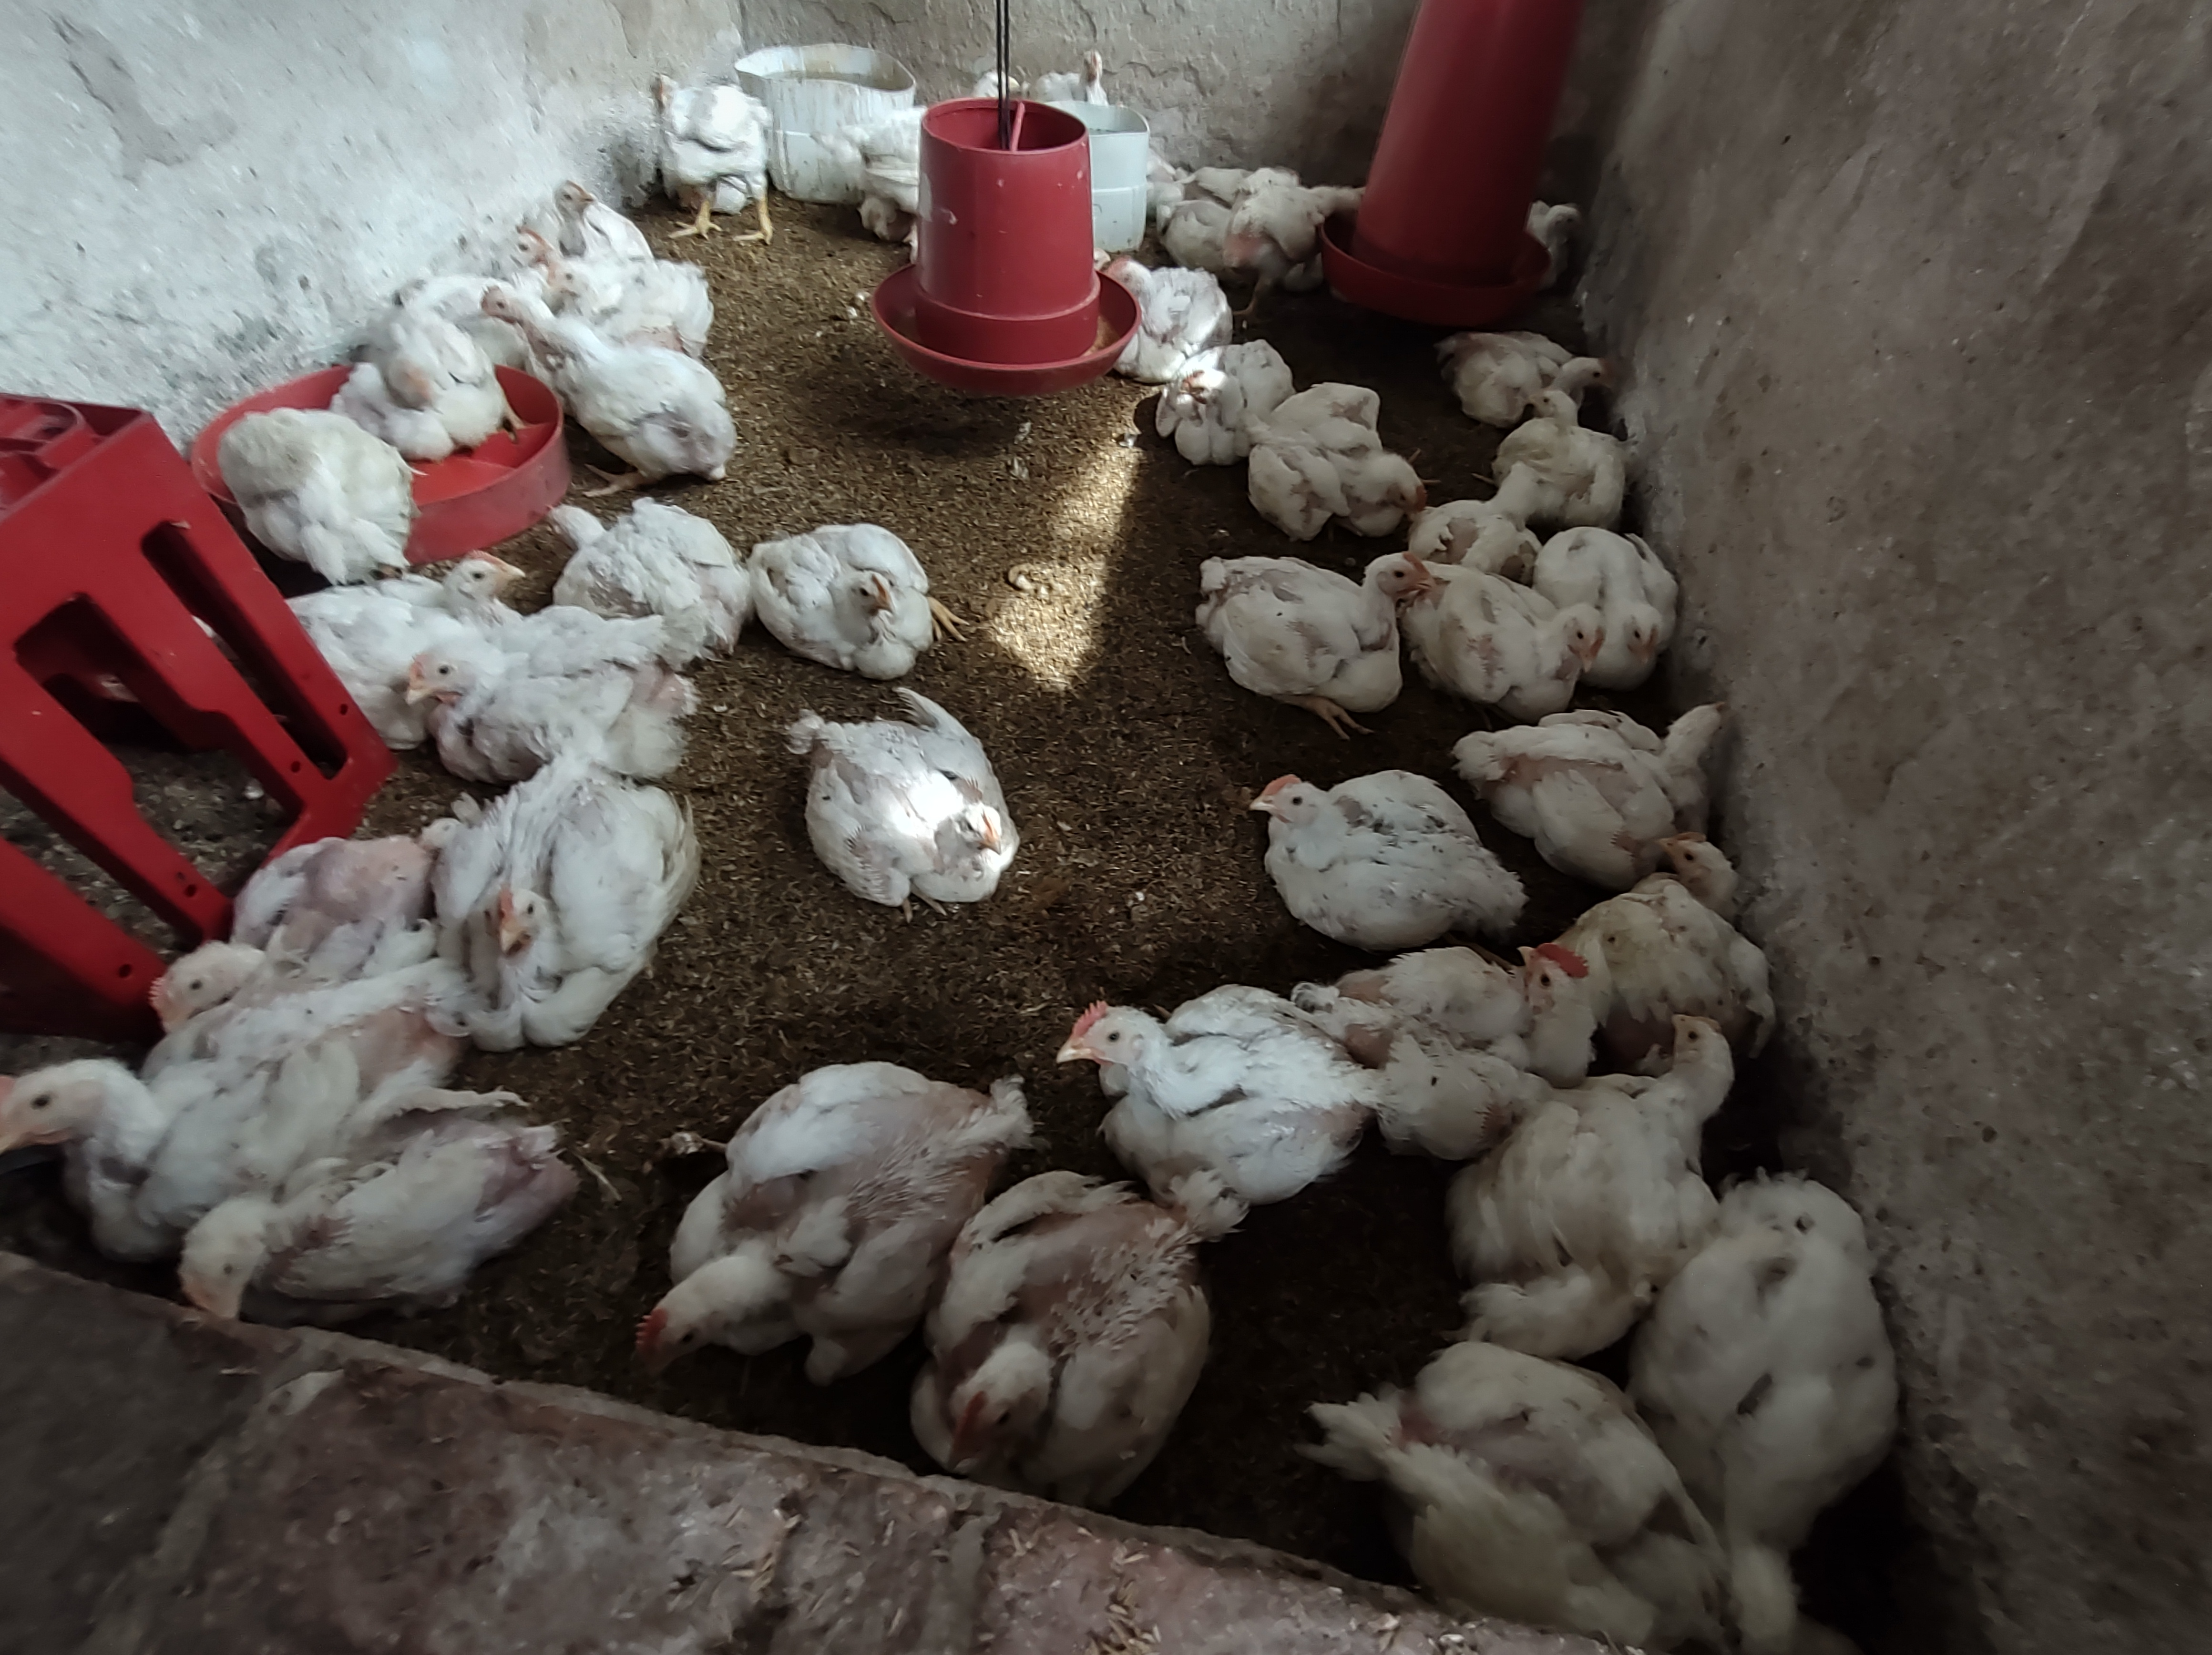Pollos: (915, 1208, 1188, 1464), (623, 1146, 915, 1380), (181, 1135, 478, 1326), (1057, 993, 1330, 1177), (480, 290, 739, 468), (442, 788, 635, 1014), (1569, 1019, 1741, 1259), (390, 643, 685, 770), (1247, 763, 1476, 918), (207, 409, 421, 572), (1391, 927, 1600, 1093), (831, 728, 1029, 899), (1544, 694, 1741, 841), (536, 501, 746, 628), (770, 527, 951, 673), (1250, 542, 1438, 673), (1616, 826, 1756, 987), (1257, 391, 1442, 511), (9, 1053, 144, 1193), (153, 899, 292, 1029), (647, 68, 769, 188), (1499, 581, 1616, 683), (398, 549, 518, 638), (1513, 381, 1586, 518), (1174, 353, 1273, 447), (1612, 558, 1683, 673), (1118, 254, 1224, 323), (541, 172, 619, 233), (1042, 49, 1115, 101), (1560, 341, 1616, 400)
